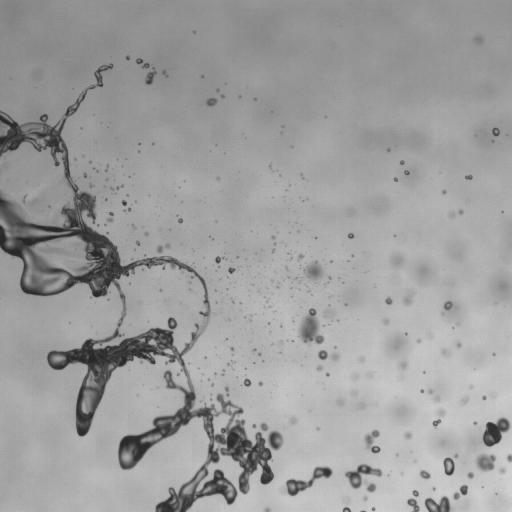droplet: (344, 464, 382, 492), (298, 308, 324, 344), (482, 417, 511, 446), (304, 261, 323, 282), (364, 429, 380, 453), (475, 454, 495, 471), (406, 490, 419, 511), (443, 457, 454, 475), (391, 255, 403, 267), (403, 293, 413, 305), (398, 360, 408, 370), (420, 470, 430, 479), (206, 98, 217, 106), (444, 301, 453, 310), (318, 350, 327, 359), (243, 378, 251, 386), (215, 256, 222, 265), (107, 212, 113, 221), (475, 36, 482, 43), (492, 128, 499, 135), (30, 199, 37, 206), (385, 297, 392, 304), (331, 353, 338, 360), (461, 397, 468, 404), (441, 349, 448, 355), (405, 432, 411, 439), (297, 254, 303, 260), (228, 267, 234, 273), (290, 417, 296, 423), (467, 472, 473, 478), (507, 454, 511, 462), (348, 233, 354, 238), (499, 468, 505, 473), (465, 175, 472, 179), (449, 212, 454, 217), (383, 319, 388, 324), (456, 342, 461, 347), (317, 365, 322, 370), (434, 396, 439, 401), (339, 400, 344, 405), (178, 217, 182, 223), (122, 200, 126, 205), (344, 498, 349, 502), (162, 71, 166, 75), (400, 160, 404, 164), (404, 170, 408, 174), (459, 210, 463, 214), (279, 341, 283, 345), (359, 357, 363, 361), (325, 372, 329, 376), (354, 374, 358, 378), (428, 389, 432, 393), (351, 391, 355, 395), (482, 395, 486, 399), (252, 424, 256, 428), (363, 496, 367, 500), (229, 361, 234, 364), (89, 184, 93, 187), (118, 185, 122, 188), (136, 241, 139, 245), (230, 347, 233, 351), (258, 382, 262, 385), (372, 507, 375, 511), (126, 208, 131, 210), (126, 56, 129, 59), (83, 173, 86, 176), (442, 190, 445, 193), (132, 225, 135, 228), (271, 236, 274, 239), (330, 314, 333, 317), (417, 339, 420, 342), (420, 389, 423, 392), (473, 421, 476, 424), (454, 454, 457, 457), (432, 487, 435, 490), (216, 89, 219, 91), (221, 95, 224, 97), (394, 178, 397, 180), (145, 232, 147, 235), (285, 267, 288, 269), (253, 348, 255, 351), (105, 167, 107, 169), (470, 386, 472, 388)
ligament: (0, 65, 283, 511), (279, 466, 332, 496), (424, 496, 454, 511), (432, 408, 445, 427), (453, 484, 468, 499), (145, 69, 155, 84), (136, 58, 149, 68), (342, 506, 351, 511), (263, 507, 271, 511), (325, 310, 329, 316), (225, 387, 228, 395), (361, 510, 365, 511)
